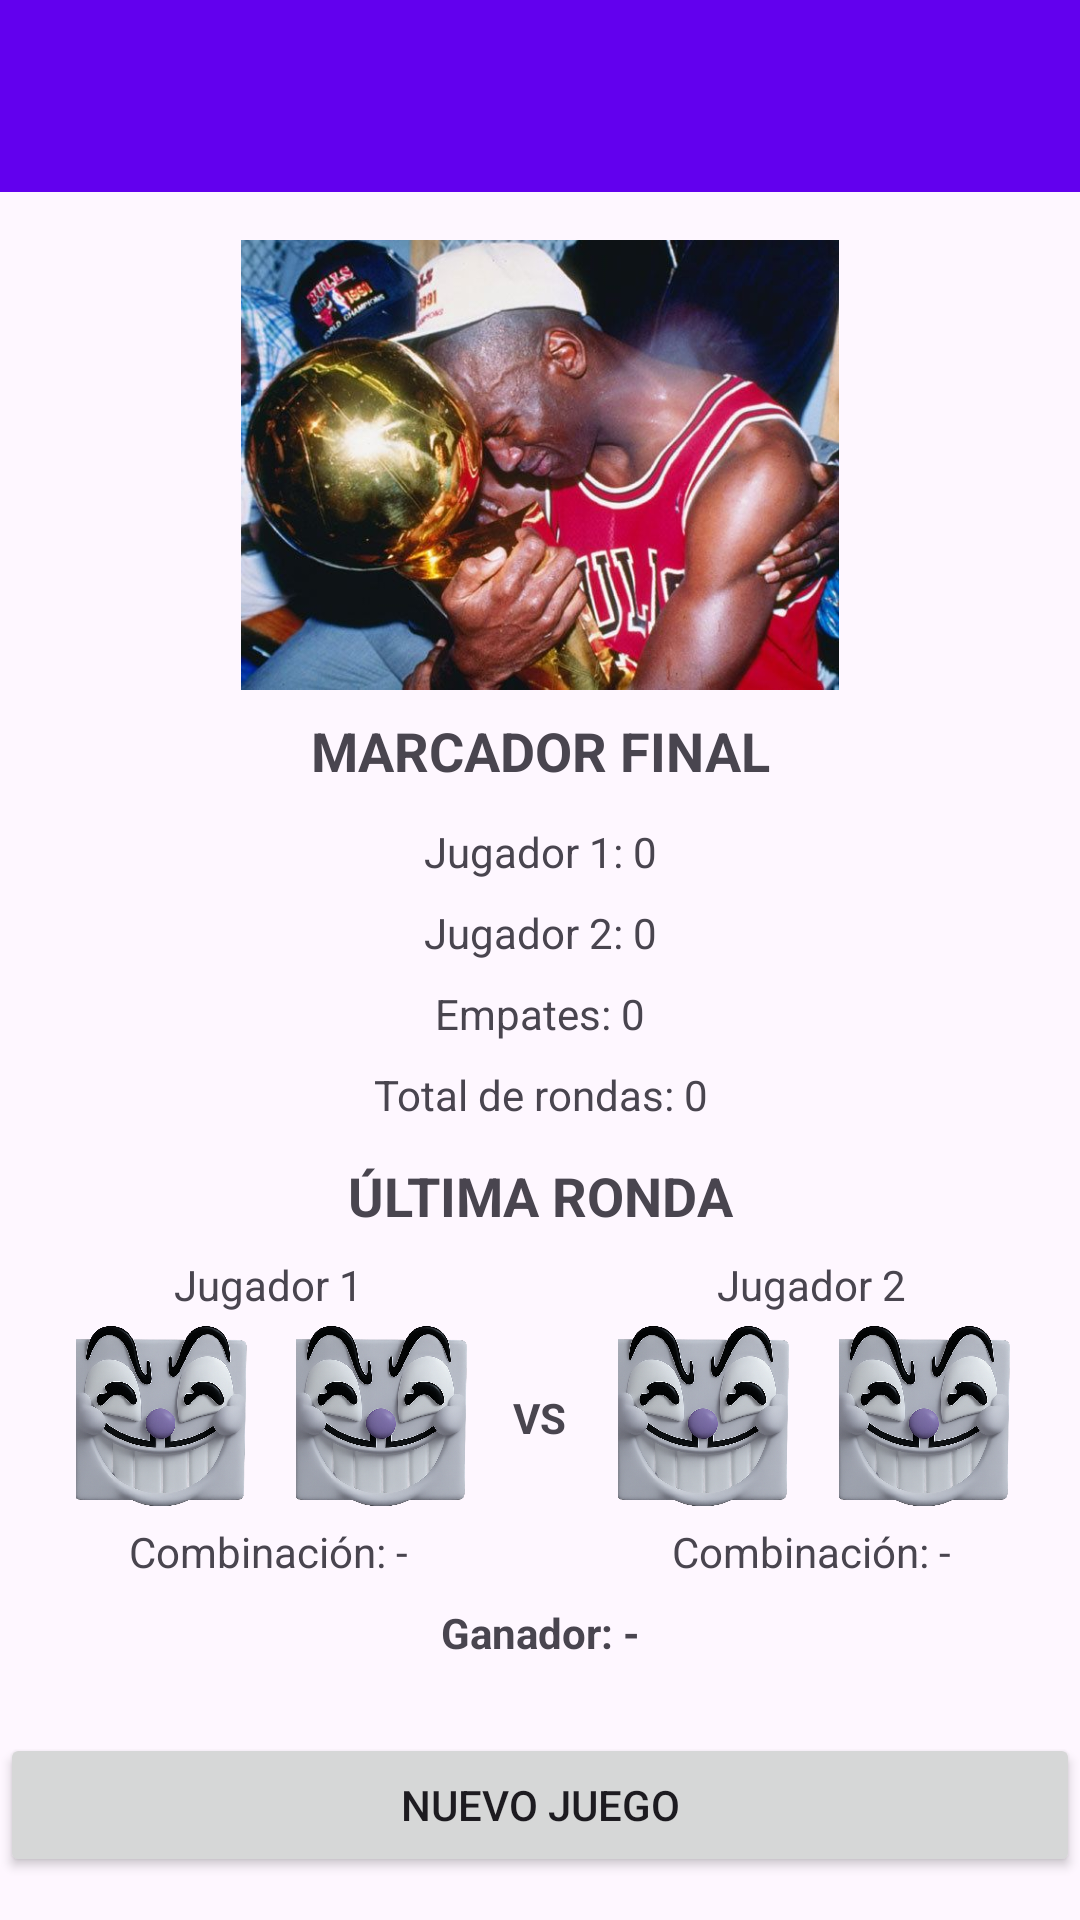

Locate icon controls on the screen. Image size 1080 x 1920, boxes as [x1, y1, x2, y2].
cara: [76, 1326, 247, 1506], [296, 1326, 467, 1506], [618, 1326, 789, 1506], [839, 1326, 1010, 1506]
